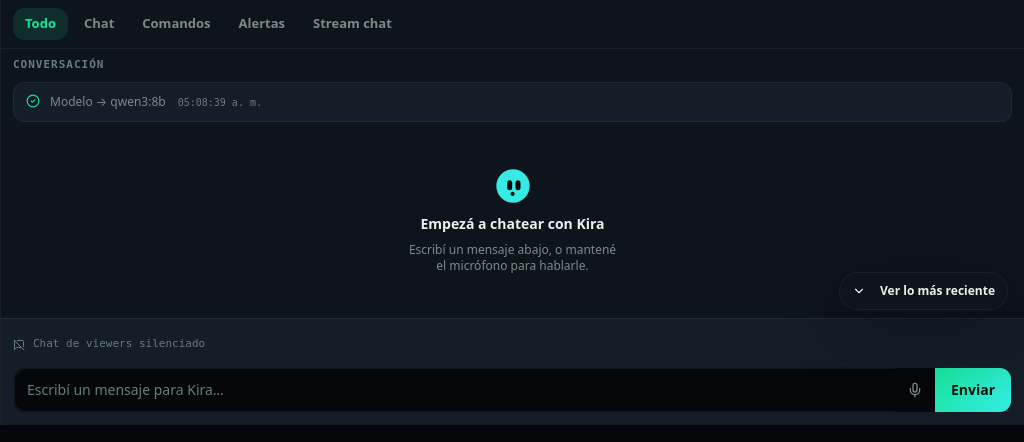
it: ConversationPanel — auto-scroll + jump-to-recent (Item 3) › scrolls to the bottom and hides the button when the jump button is clicked
The image size is (1024, 442).
Click the button "Ver lo más reciente".
click(924, 290)  # box x1=839 y1=272 x2=1008 y2=310
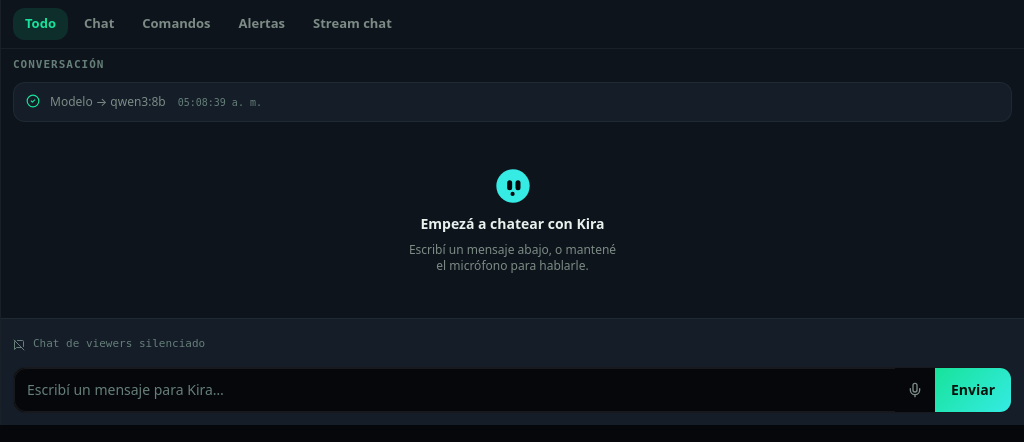
Expected: the button "Ver lo más reciente" is gone
